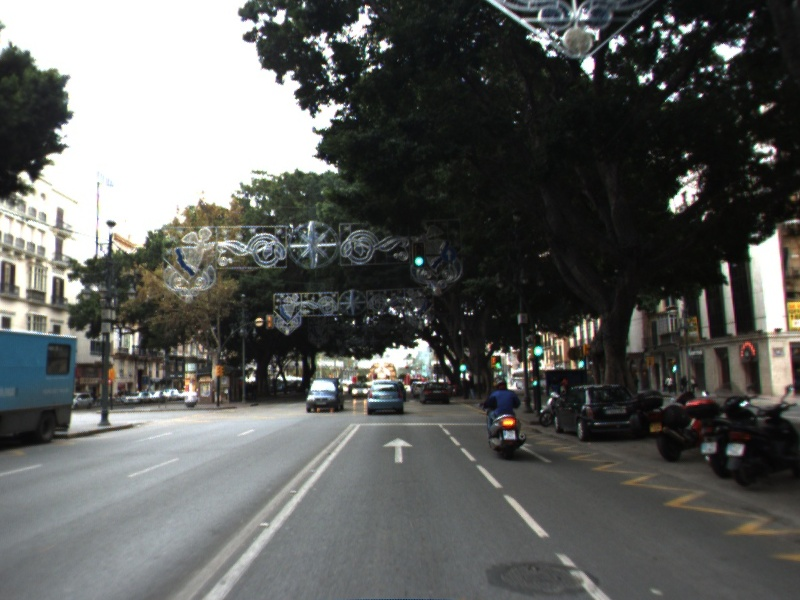STRAIGHT: (380, 435, 415, 465), (517, 441, 553, 464)
